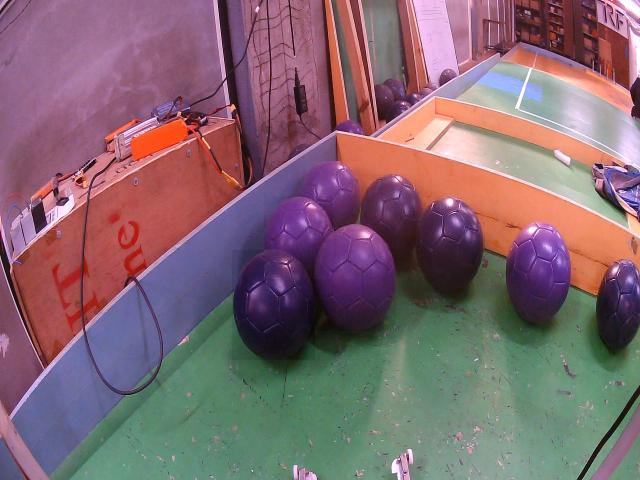jambhalya: (315, 225, 396, 331), (506, 222, 571, 323), (265, 196, 333, 279), (302, 162, 361, 229)
kaalyya: (233, 250, 315, 360), (417, 197, 484, 293), (360, 175, 423, 261), (596, 260, 640, 351)
